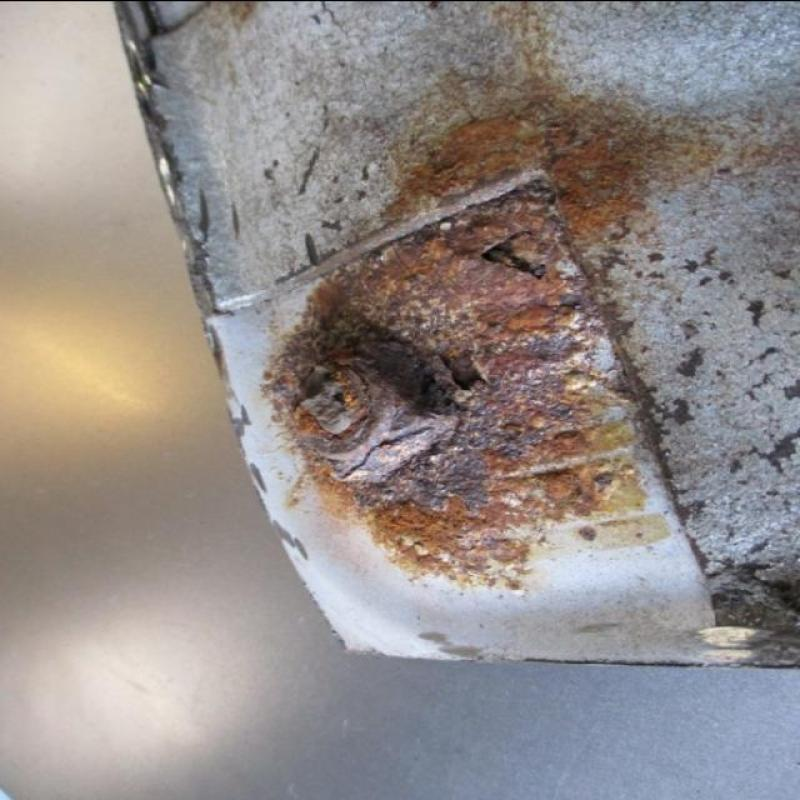corrosion: (312, 165, 578, 495)
